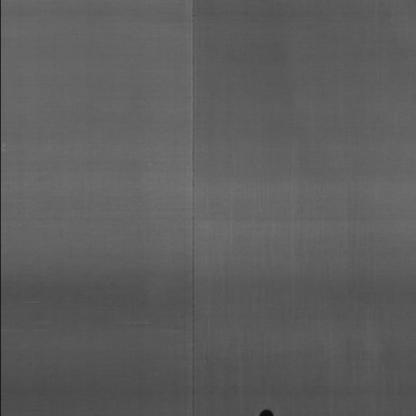punching_hole: (255, 408, 273, 416)
